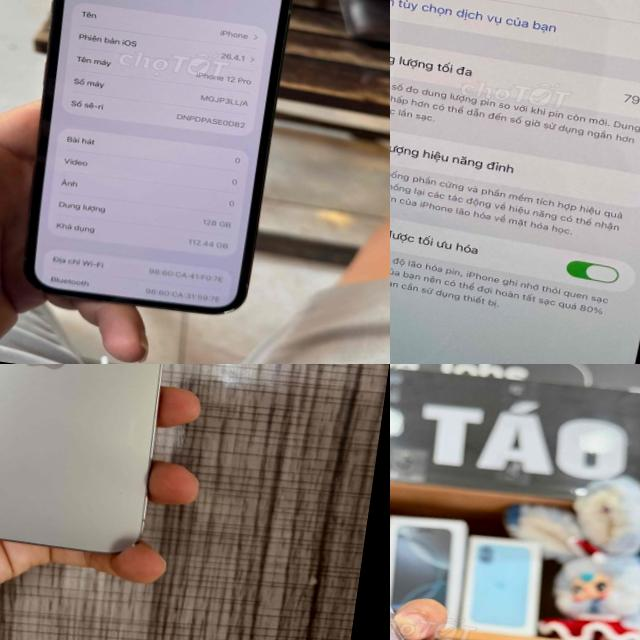gen_12_13: (9, 0, 300, 335)
gen_14: (390, 0, 640, 364), (390, 419, 578, 640)
gen_15: (0, 364, 204, 582)
